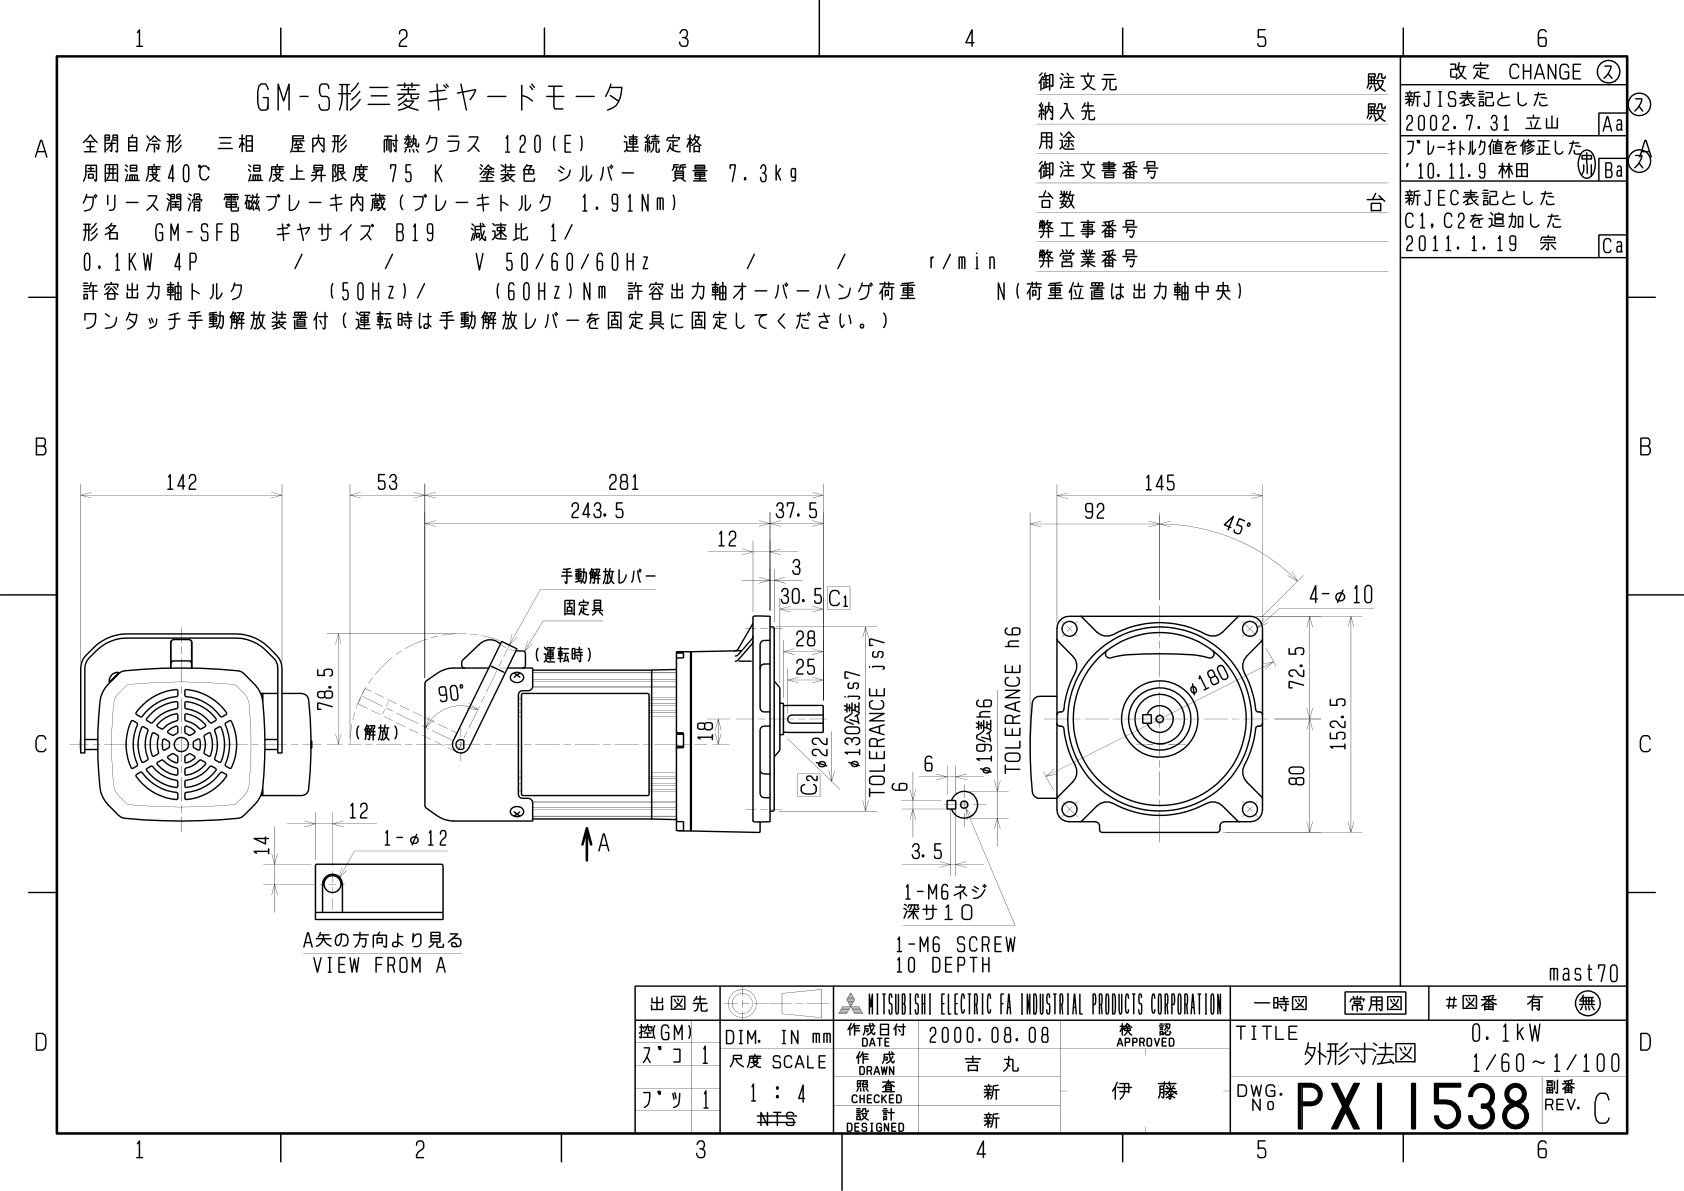GM_S_手動ブレーキ＿三相_フランジ: (70, 424, 1386, 982)
